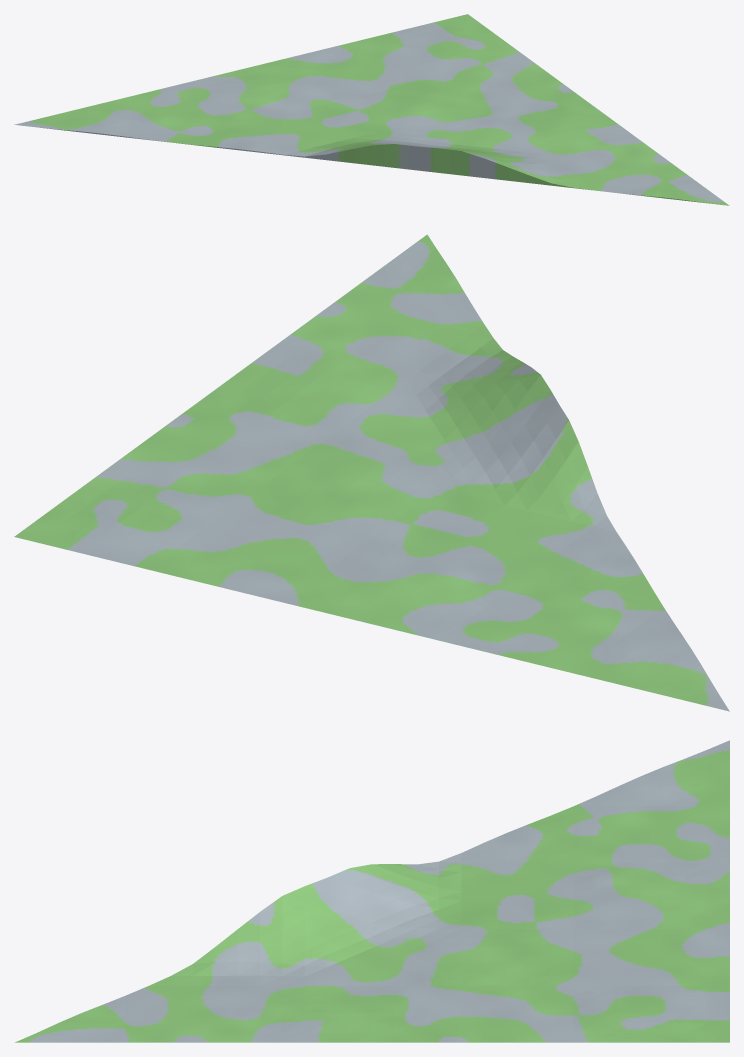
File: Grass_RockyGround_08_SE.obj
3 renders of one model, top to bottom at view 1: azimuth 30°, elevation 25°; view 2: azimuth 150°, elevation 25°; view 3: azimuth 270°, elevation 25°, orthographic. The views are drawn at different scales.
Size of the model in its own units: 10 by 0.519 by 10.
Materials: 1 (1 with a texture image).
